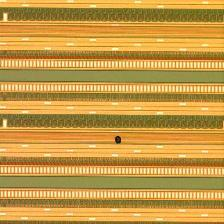PARTICLE: (113, 135, 125, 147)
